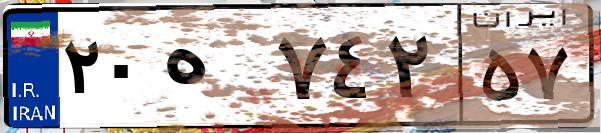0: (110, 28, 158, 98)
2: (385, 28, 445, 110), (57, 26, 110, 100)
4: (330, 28, 385, 110)
5: (475, 38, 525, 113)
7: (270, 28, 330, 110), (525, 38, 570, 115)
ه: (158, 20, 270, 120)
